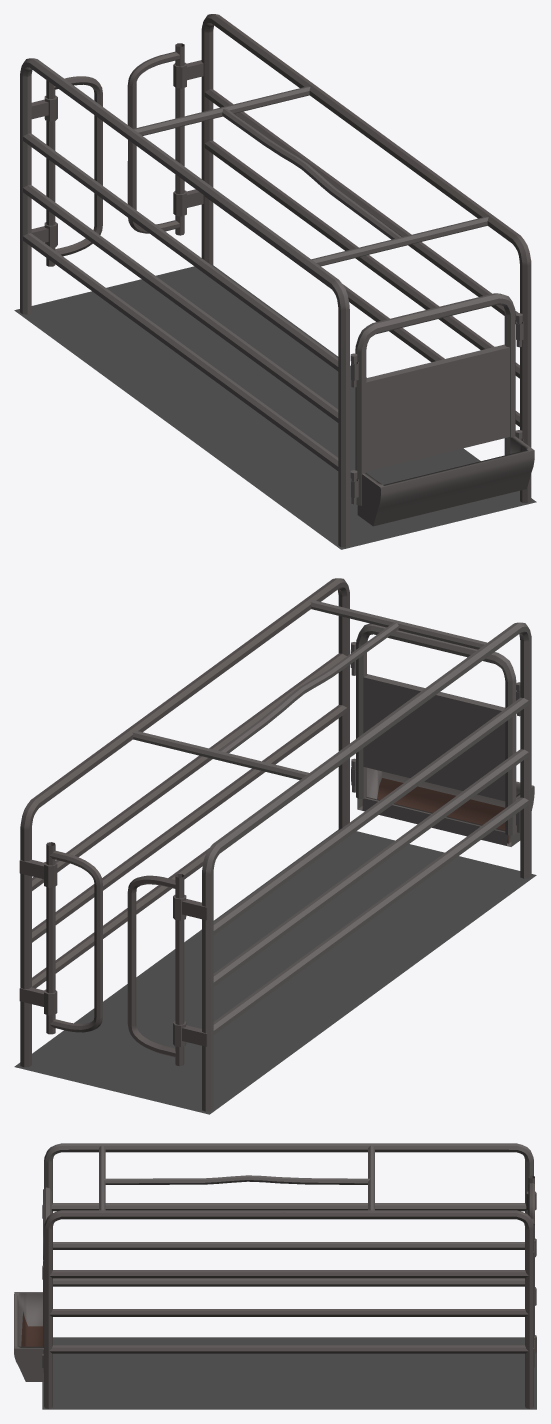
The model's file is cage_fixed.fbx.
3 views of the same model, one above another, from view 1: azimuth 30°, elevation 25°; view 2: azimuth 150°, elevation 25°; view 3: azimuth 270°, elevation 25° (orthographic). The views are drawn at different scales.
Parts seen in each view (by area): view 1: CageBigPig; view 2: CageBigPig; view 3: CageBigPig.
Part boxes in pixels (bbox=[...]): CageBigPig: bbox=[14, 14, 536, 549]; CageBigPig: bbox=[14, 578, 536, 1114]; CageBigPig: bbox=[14, 1143, 536, 1409].
Size of the model in its own units: 53.64 by 69 by 164.
